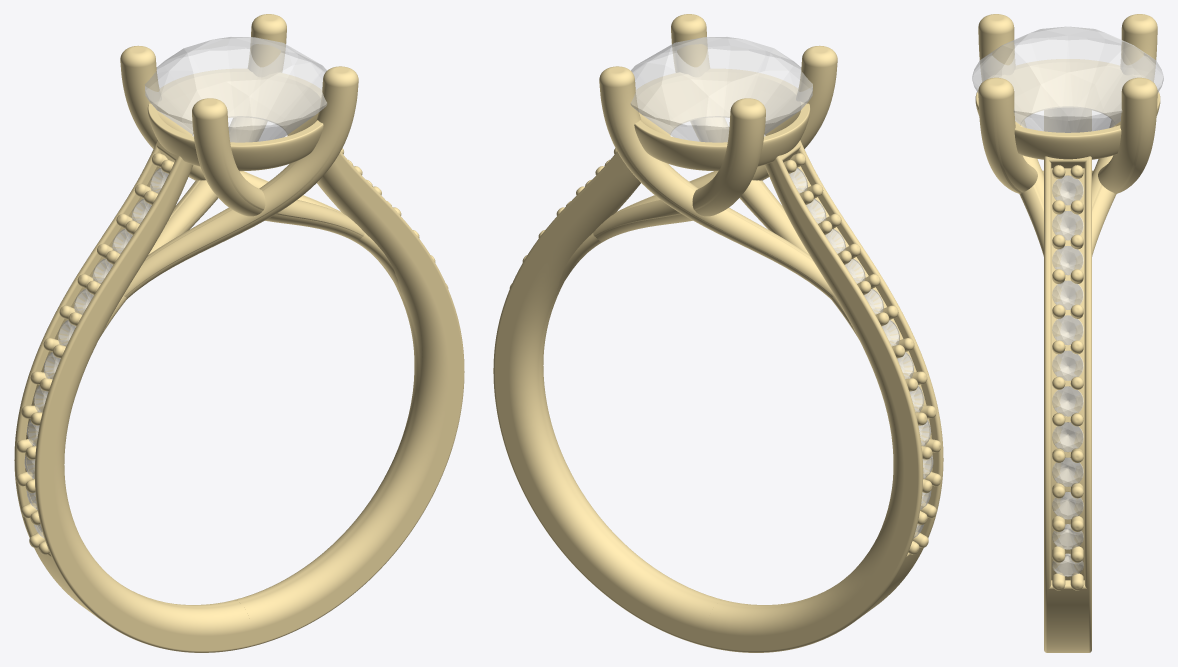
3 views of the same model, side by side, from view 1: azimuth 30°, elevation 25°; view 2: azimuth 150°, elevation 25°; view 3: azimuth 270°, elevation 25° (orthographic).
Parts seen in each view (by area): view 1: NNObj_27, NNObj_26, NNObj_24, NNObj_25, NNObj_30, NNObj_31, NNObj_29, NNObj_28; view 2: NNObj_27, NNObj_26, NNObj_24, NNObj_25, NNObj_29, NNObj_28, NNObj_30, NNObj_31; view 3: NNObj_26, NNObj_24, NNObj_25, NNObj_30, NNObj_29, NNObj_28, NNObj_31, NNObj_27, NNObj_5, NNObj_9, NNObj_8, NNObj_10 (+8 smaller).
Part boxes in pixels (<box>): NNObj_27: <box>14,140,251,652</box>; NNObj_26: <box>234,151,464,646</box>; NNObj_24: <box>144,37,327,142</box>; NNObj_25: <box>147,69,323,171</box>; NNObj_30: <box>123,66,358,298</box>; NNObj_31: <box>192,98,402,296</box>; NNObj_29: <box>99,14,286,338</box>; NNObj_28: <box>120,45,402,296</box>; NNObj_27: <box>706,140,943,652</box>; NNObj_26: <box>493,151,722,646</box>; NNObj_24: <box>630,37,812,142</box>; NNObj_25: <box>634,69,810,171</box>; NNObj_29: <box>599,66,834,298</box>; NNObj_28: <box>554,98,765,297</box>; NNObj_30: <box>671,14,858,338</box>; NNObj_31: <box>555,45,837,296</box>; NNObj_26: <box>1044,156,1091,652</box>; NNObj_24: <box>972,26,1163,132</box>; NNObj_25: <box>975,59,1160,159</box>; NNObj_30: <box>978,77,1043,193</box>; NNObj_29: <box>1092,77,1157,193</box>; NNObj_28: <box>1092,14,1157,256</box>; NNObj_31: <box>978,14,1043,256</box>; NNObj_27: <box>1044,108,1091,132</box>; NNObj_5: <box>1052,386,1083,416</box>; NNObj_9: <box>1052,350,1083,380</box>; NNObj_8: <box>1052,422,1083,452</box>; NNObj_10: <box>1052,315,1083,345</box>.
Bounding box in the file's own units: 0.021 × 0.0268 × 0.008.
